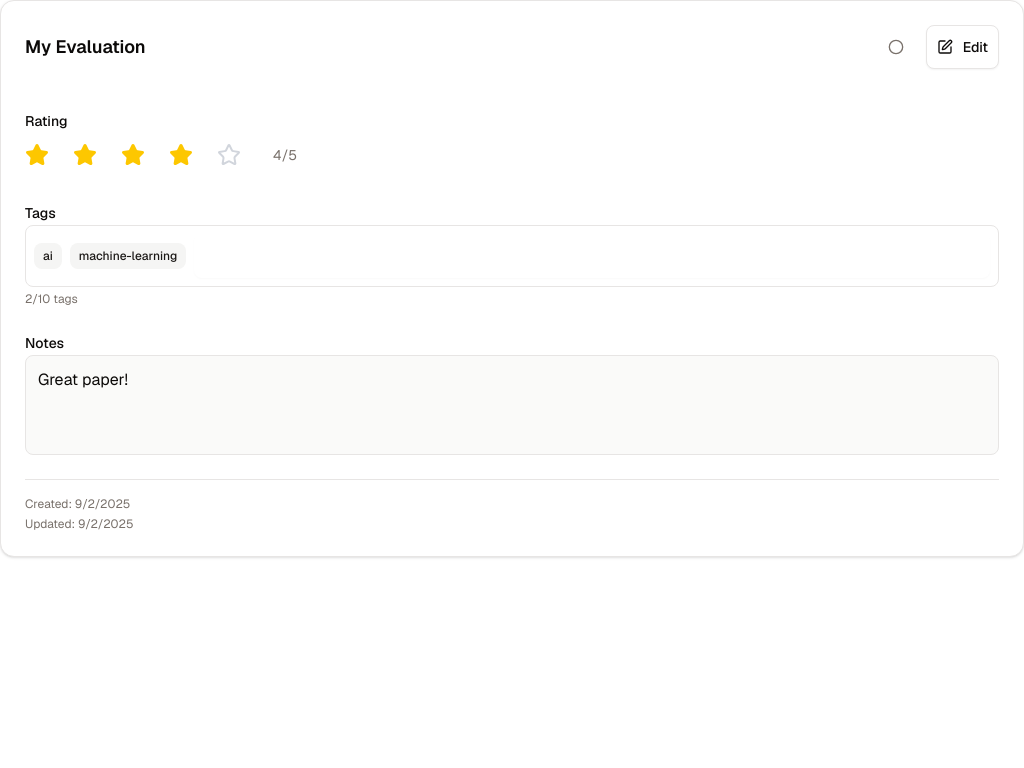
Test: UserEvaluation › cancels editing when cancel button is clicked
Click the button "Edit" at (962, 47), box left=926, top=25, right=999, bottom=69
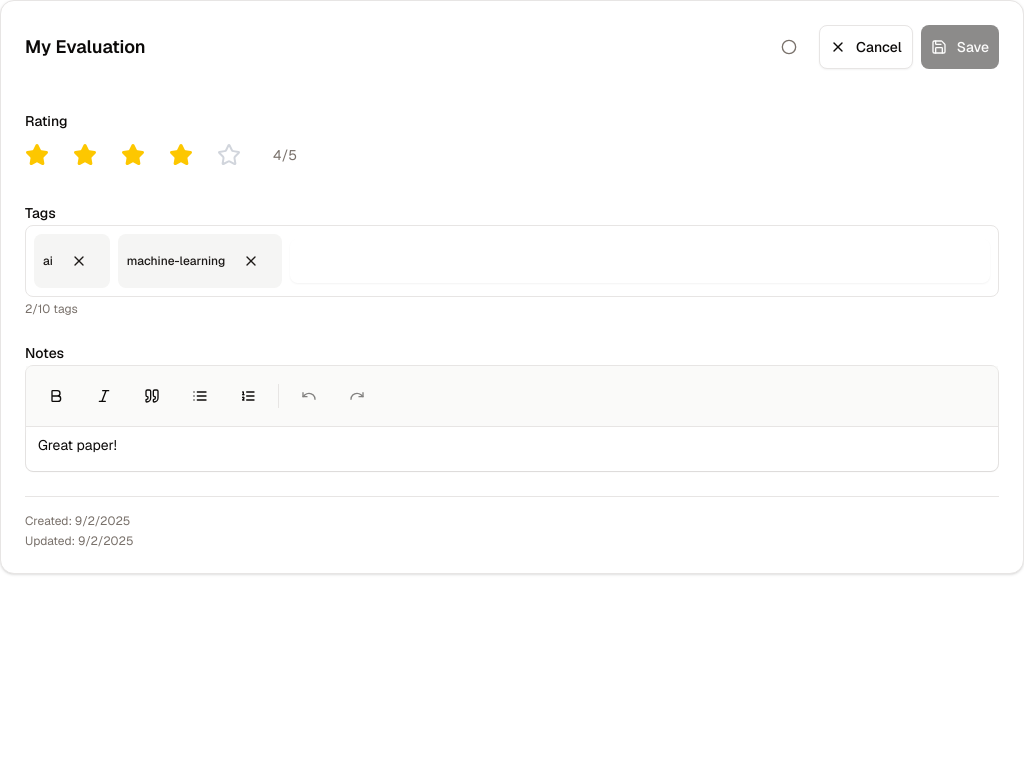
Click the button "Cancel" at (866, 47), box left=819, top=25, right=913, bottom=69
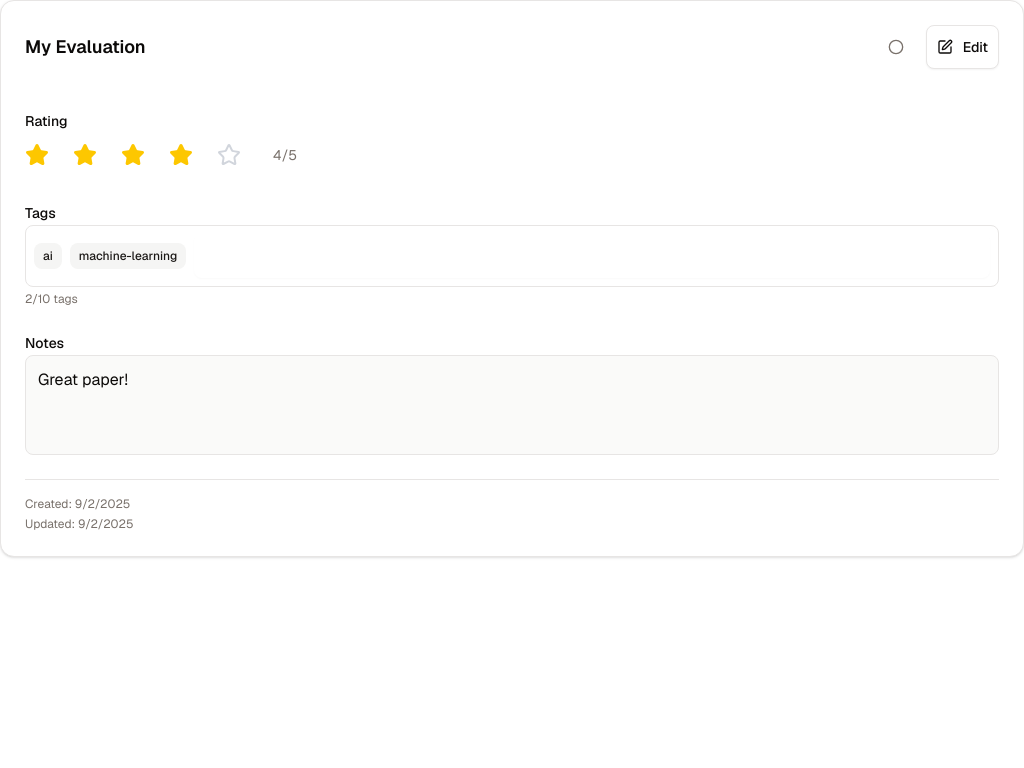
Result: the button "Save" is gone
Result: the button "Edit" is shown at left=926, top=25, right=999, bottom=69
